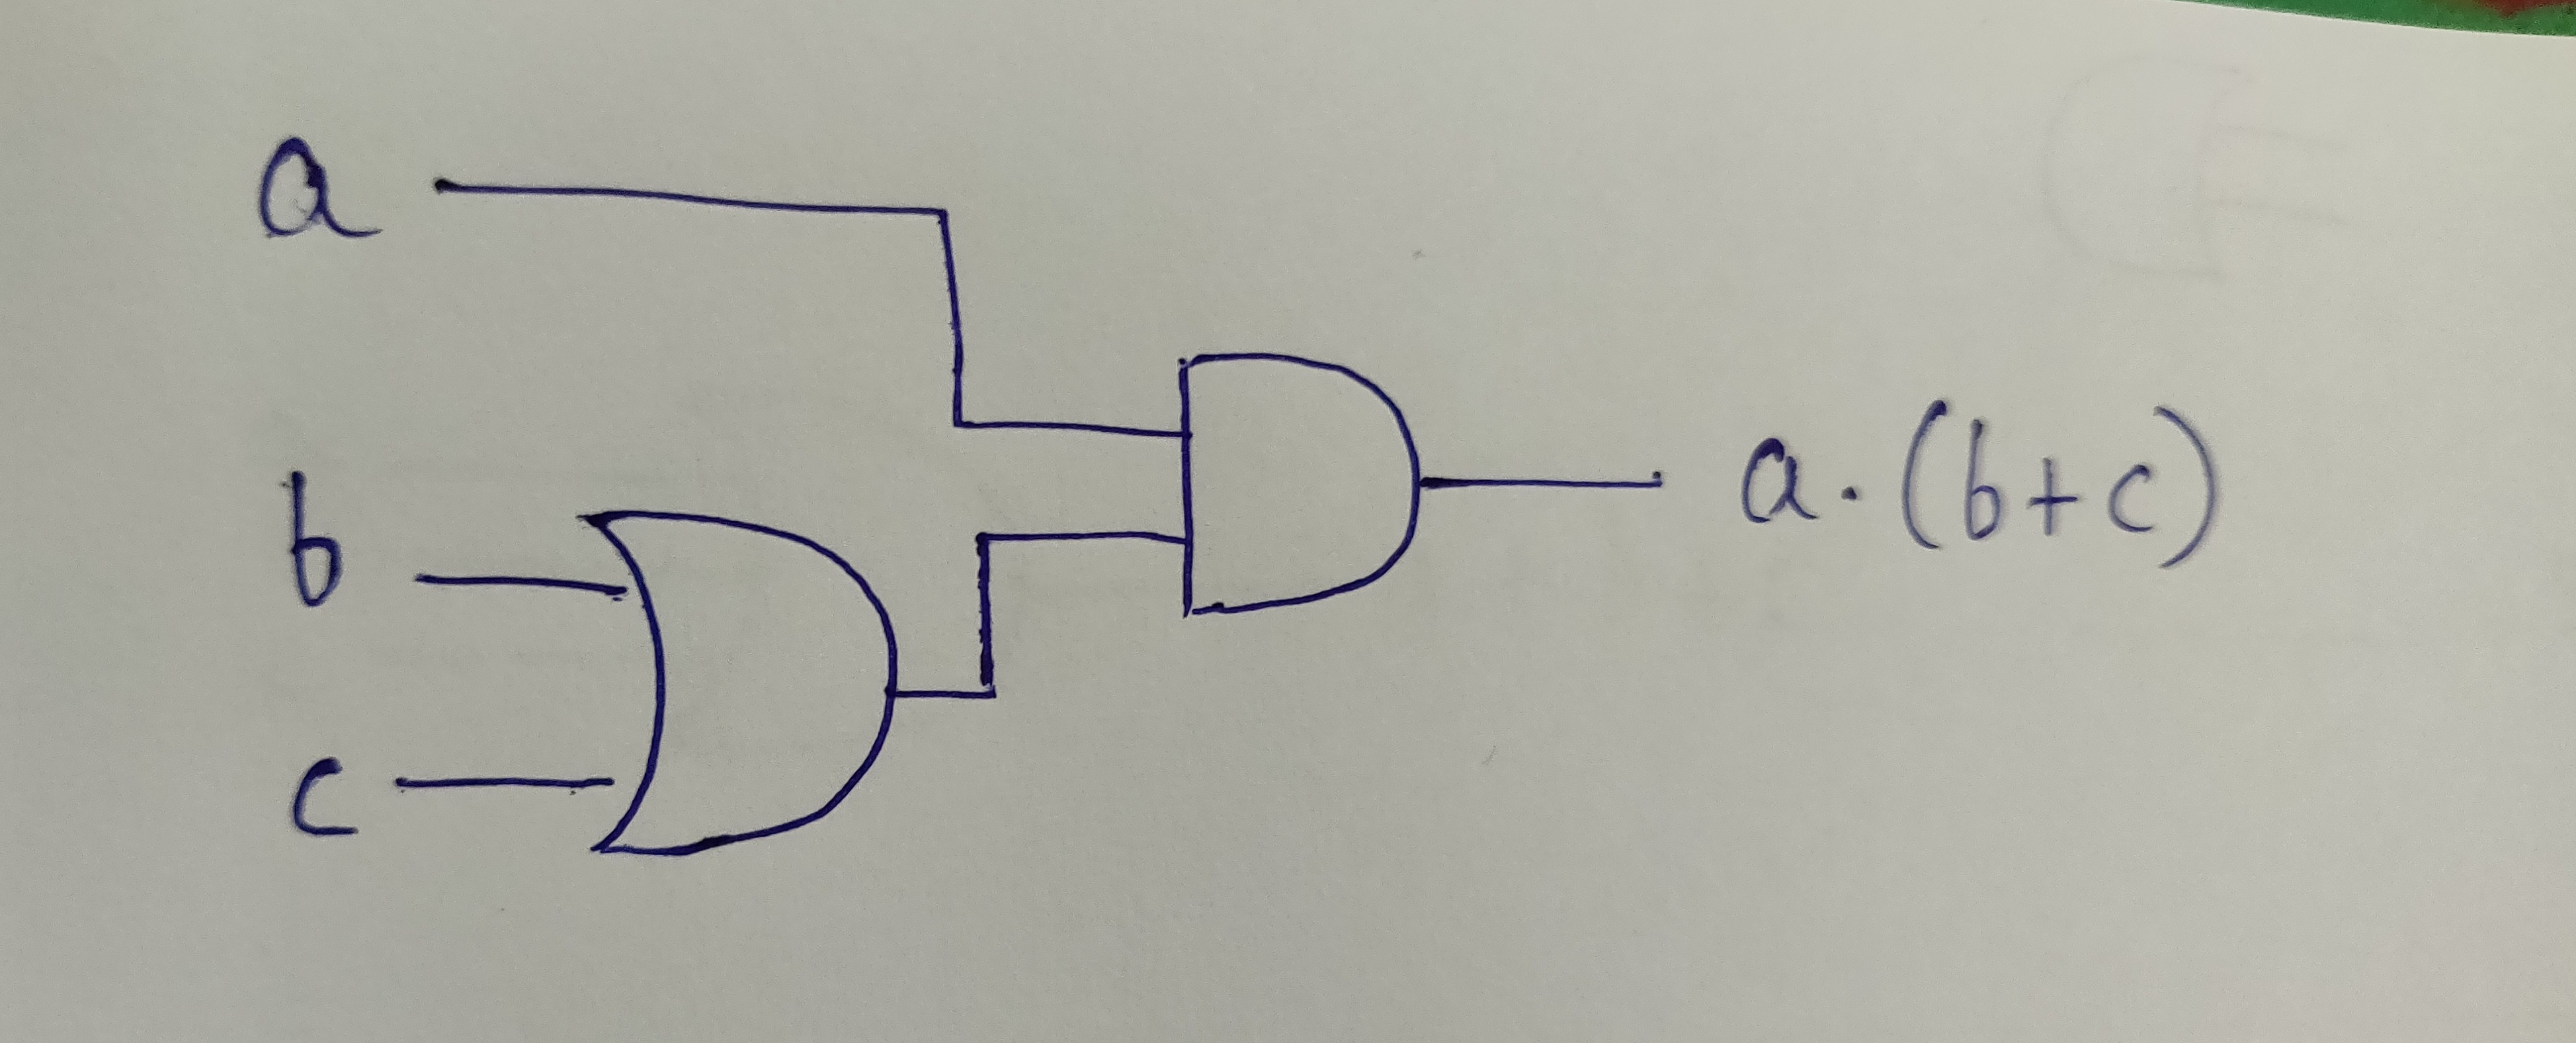and: (1140, 314, 1449, 664)
or: (547, 468, 946, 871)
